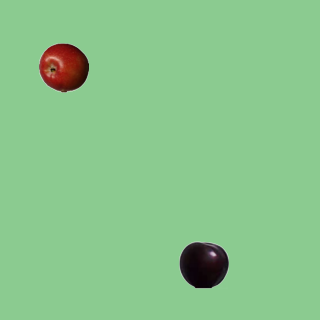Apple Braeburn: (38, 42, 88, 92)
Cherry Wax Black: (178, 239, 228, 289)
